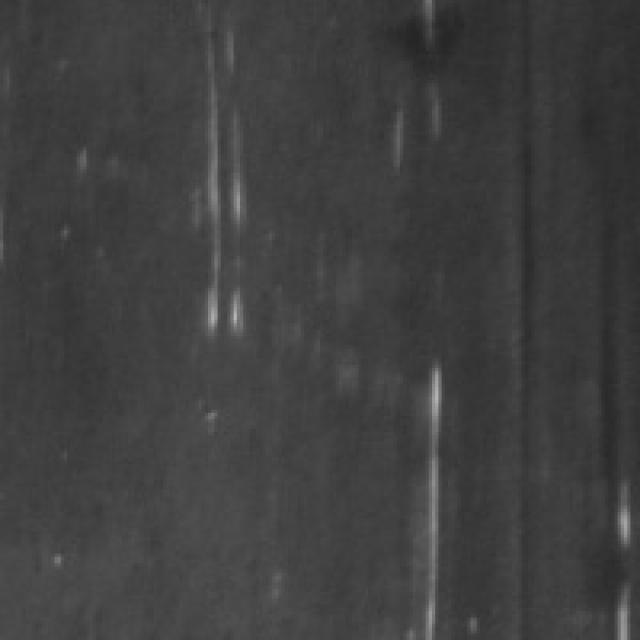inclusion: (509, 13, 621, 624)
scratches: (186, 22, 256, 333), (403, 342, 458, 637)
